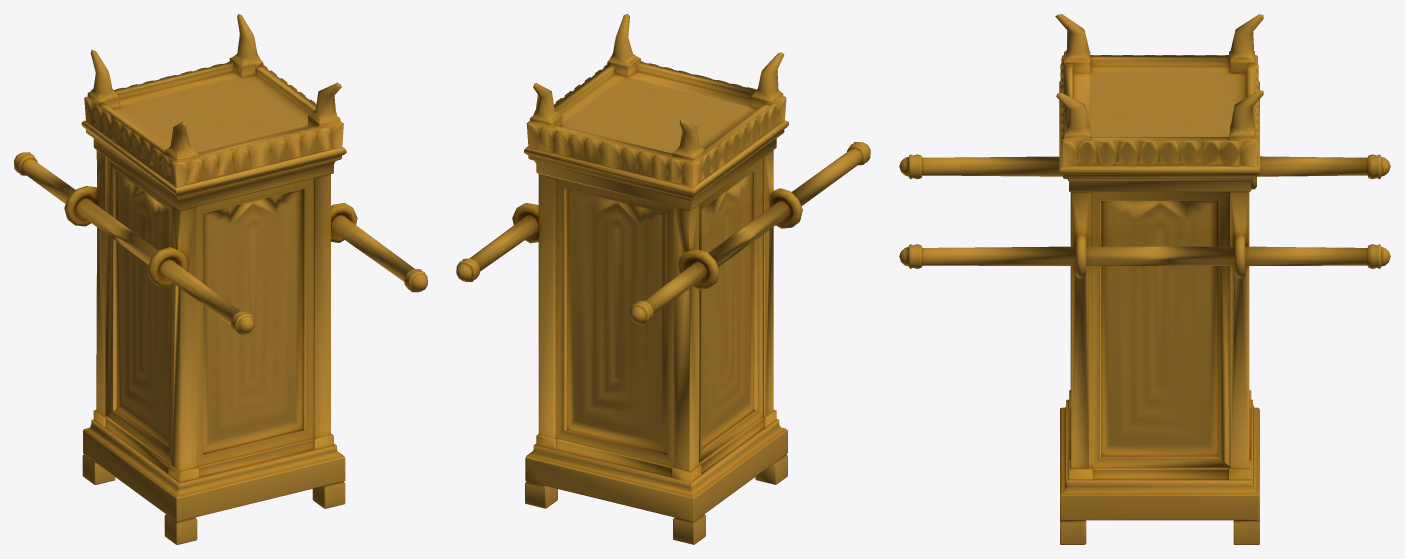
The model's file is sanctuary-incense-altar-tripo-v31-v1.glb.
3 views of the same model, side by side, from view 1: azimuth 30°, elevation 25°; view 2: azimuth 150°, elevation 25°; view 3: azimuth 270°, elevation 25° (orthographic). The views are drawn at different scales.
Parts seen in each view (by area): view 1: tripo_node_489d844b-4d24-4223-a2e2-1ffd169f2bb5; view 2: tripo_node_489d844b-4d24-4223-a2e2-1ffd169f2bb5; view 3: tripo_node_489d844b-4d24-4223-a2e2-1ffd169f2bb5.
Part boxes in pixels (x1,y1,x2,y2): tripo_node_489d844b-4d24-4223-a2e2-1ffd169f2bb5: [14, 14, 427, 544]; tripo_node_489d844b-4d24-4223-a2e2-1ffd169f2bb5: [456, 14, 870, 544]; tripo_node_489d844b-4d24-4223-a2e2-1ffd169f2bb5: [899, 14, 1390, 544].
Bounding box in the file's own units: 0.5225 × 1 × 0.9922.
1 material, 1 textured.
